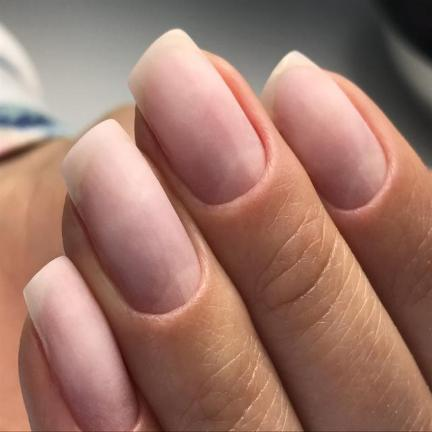Nail: (60, 119, 203, 314), (127, 28, 268, 206), (259, 50, 390, 210), (23, 254, 140, 431)
